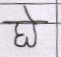e_matra: (23, 5, 36, 21)
